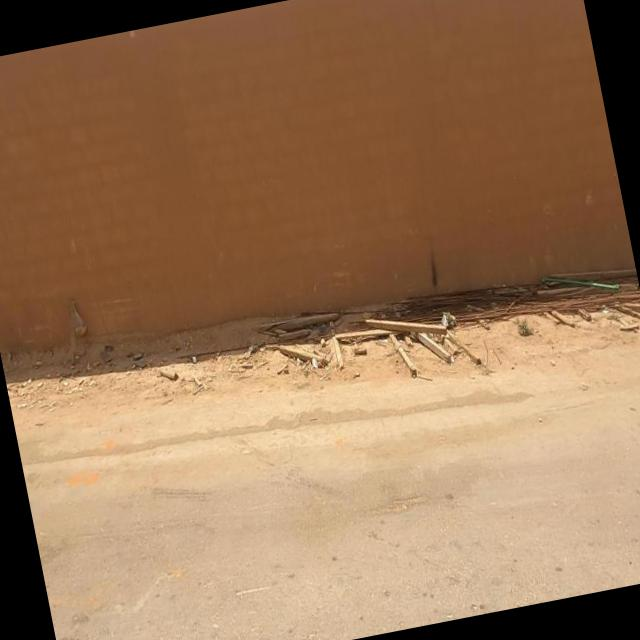debris: (276, 202, 561, 458), (195, 237, 408, 448), (436, 200, 640, 399), (115, 288, 242, 438), (54, 292, 168, 408)
